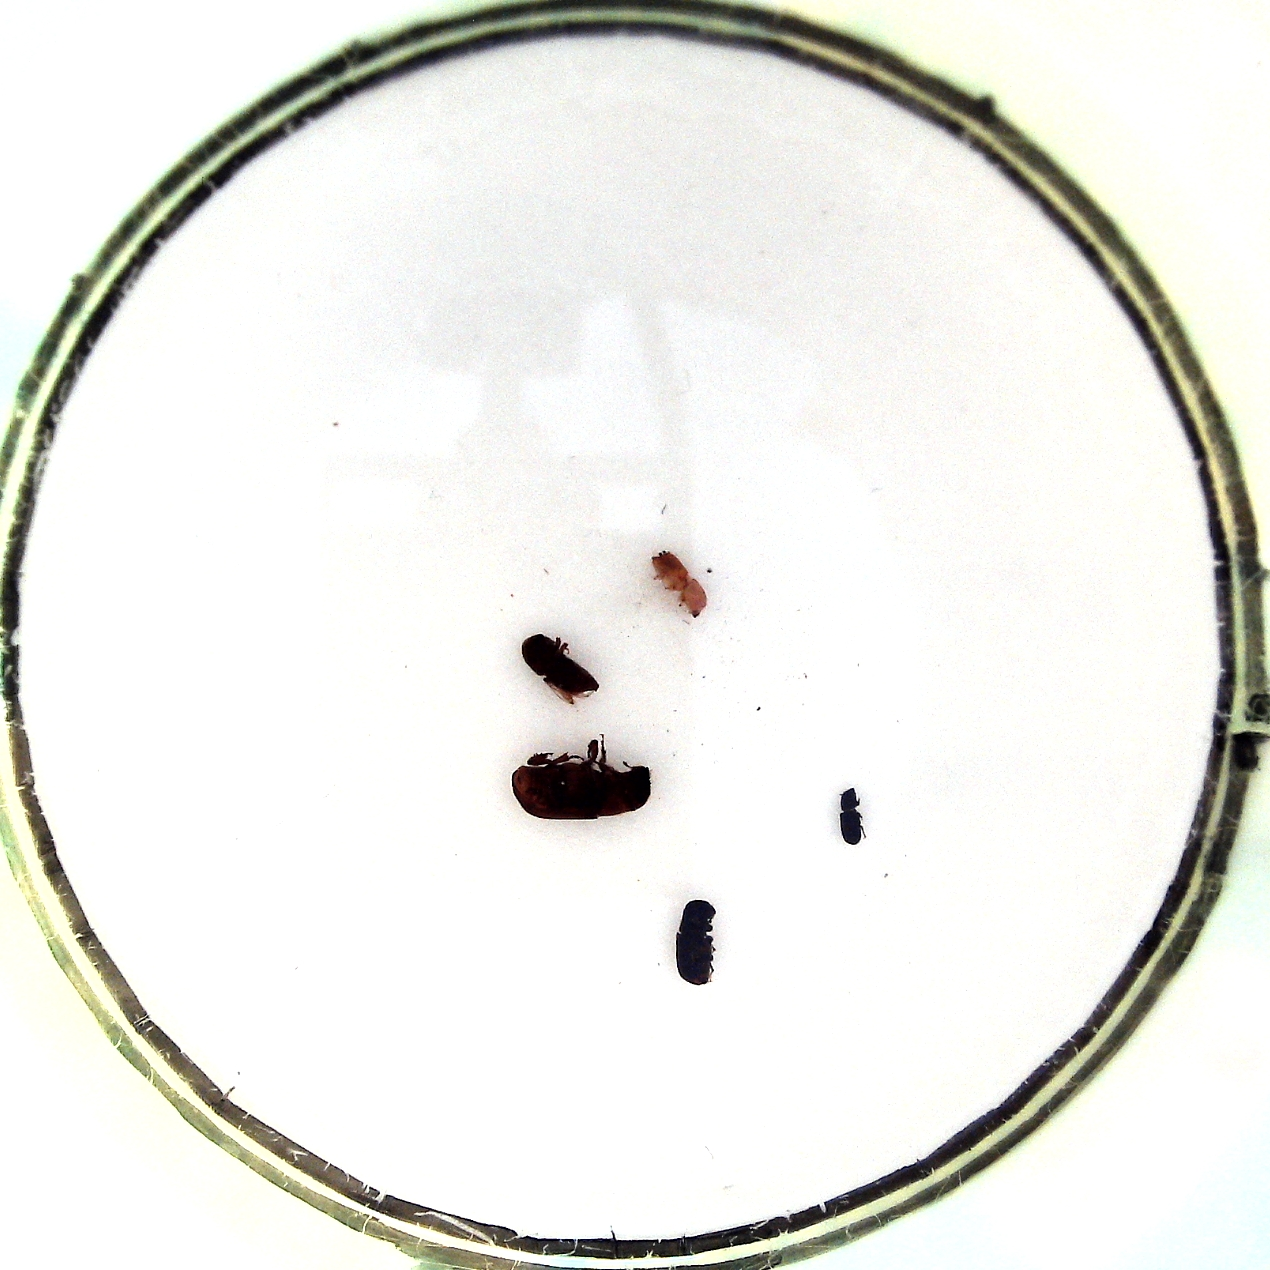Leconte: (508, 735, 656, 822)
Linnaeus: (520, 630, 602, 708)
acuminatus: (649, 544, 713, 626)
armandi: (675, 896, 725, 987)
coleoptera: (830, 782, 866, 846)
